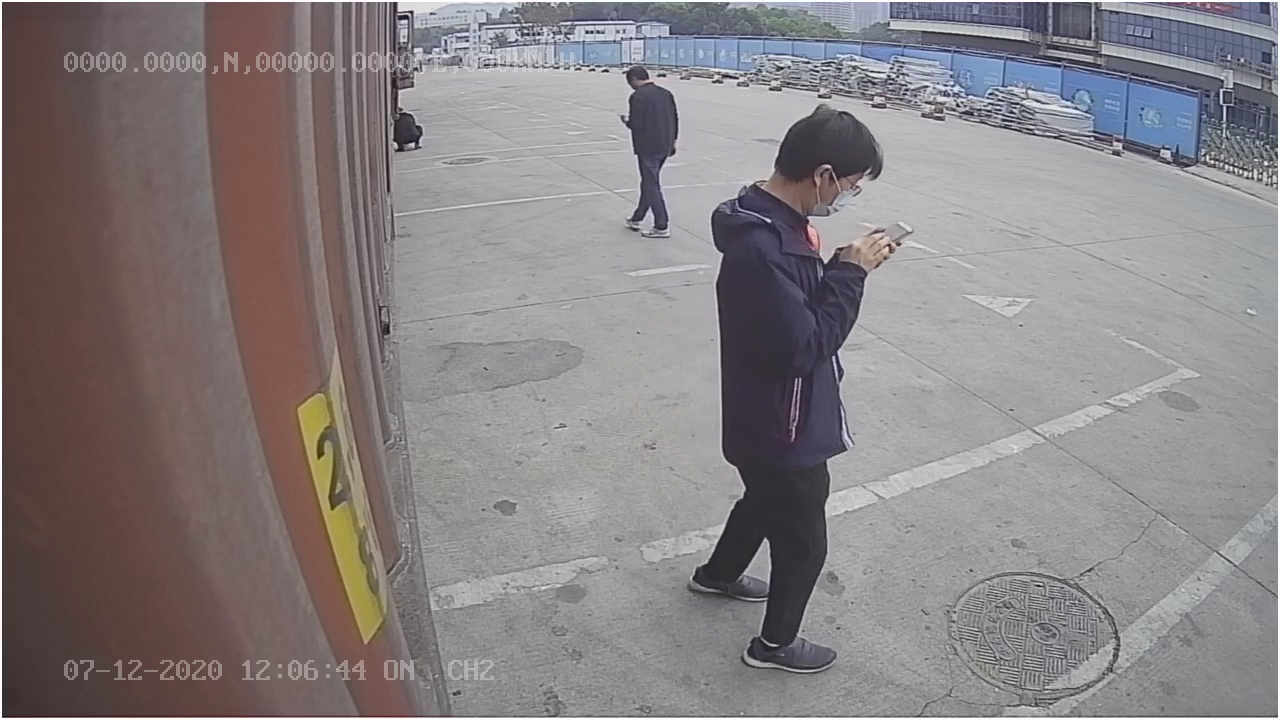person: (686, 100, 901, 667)
